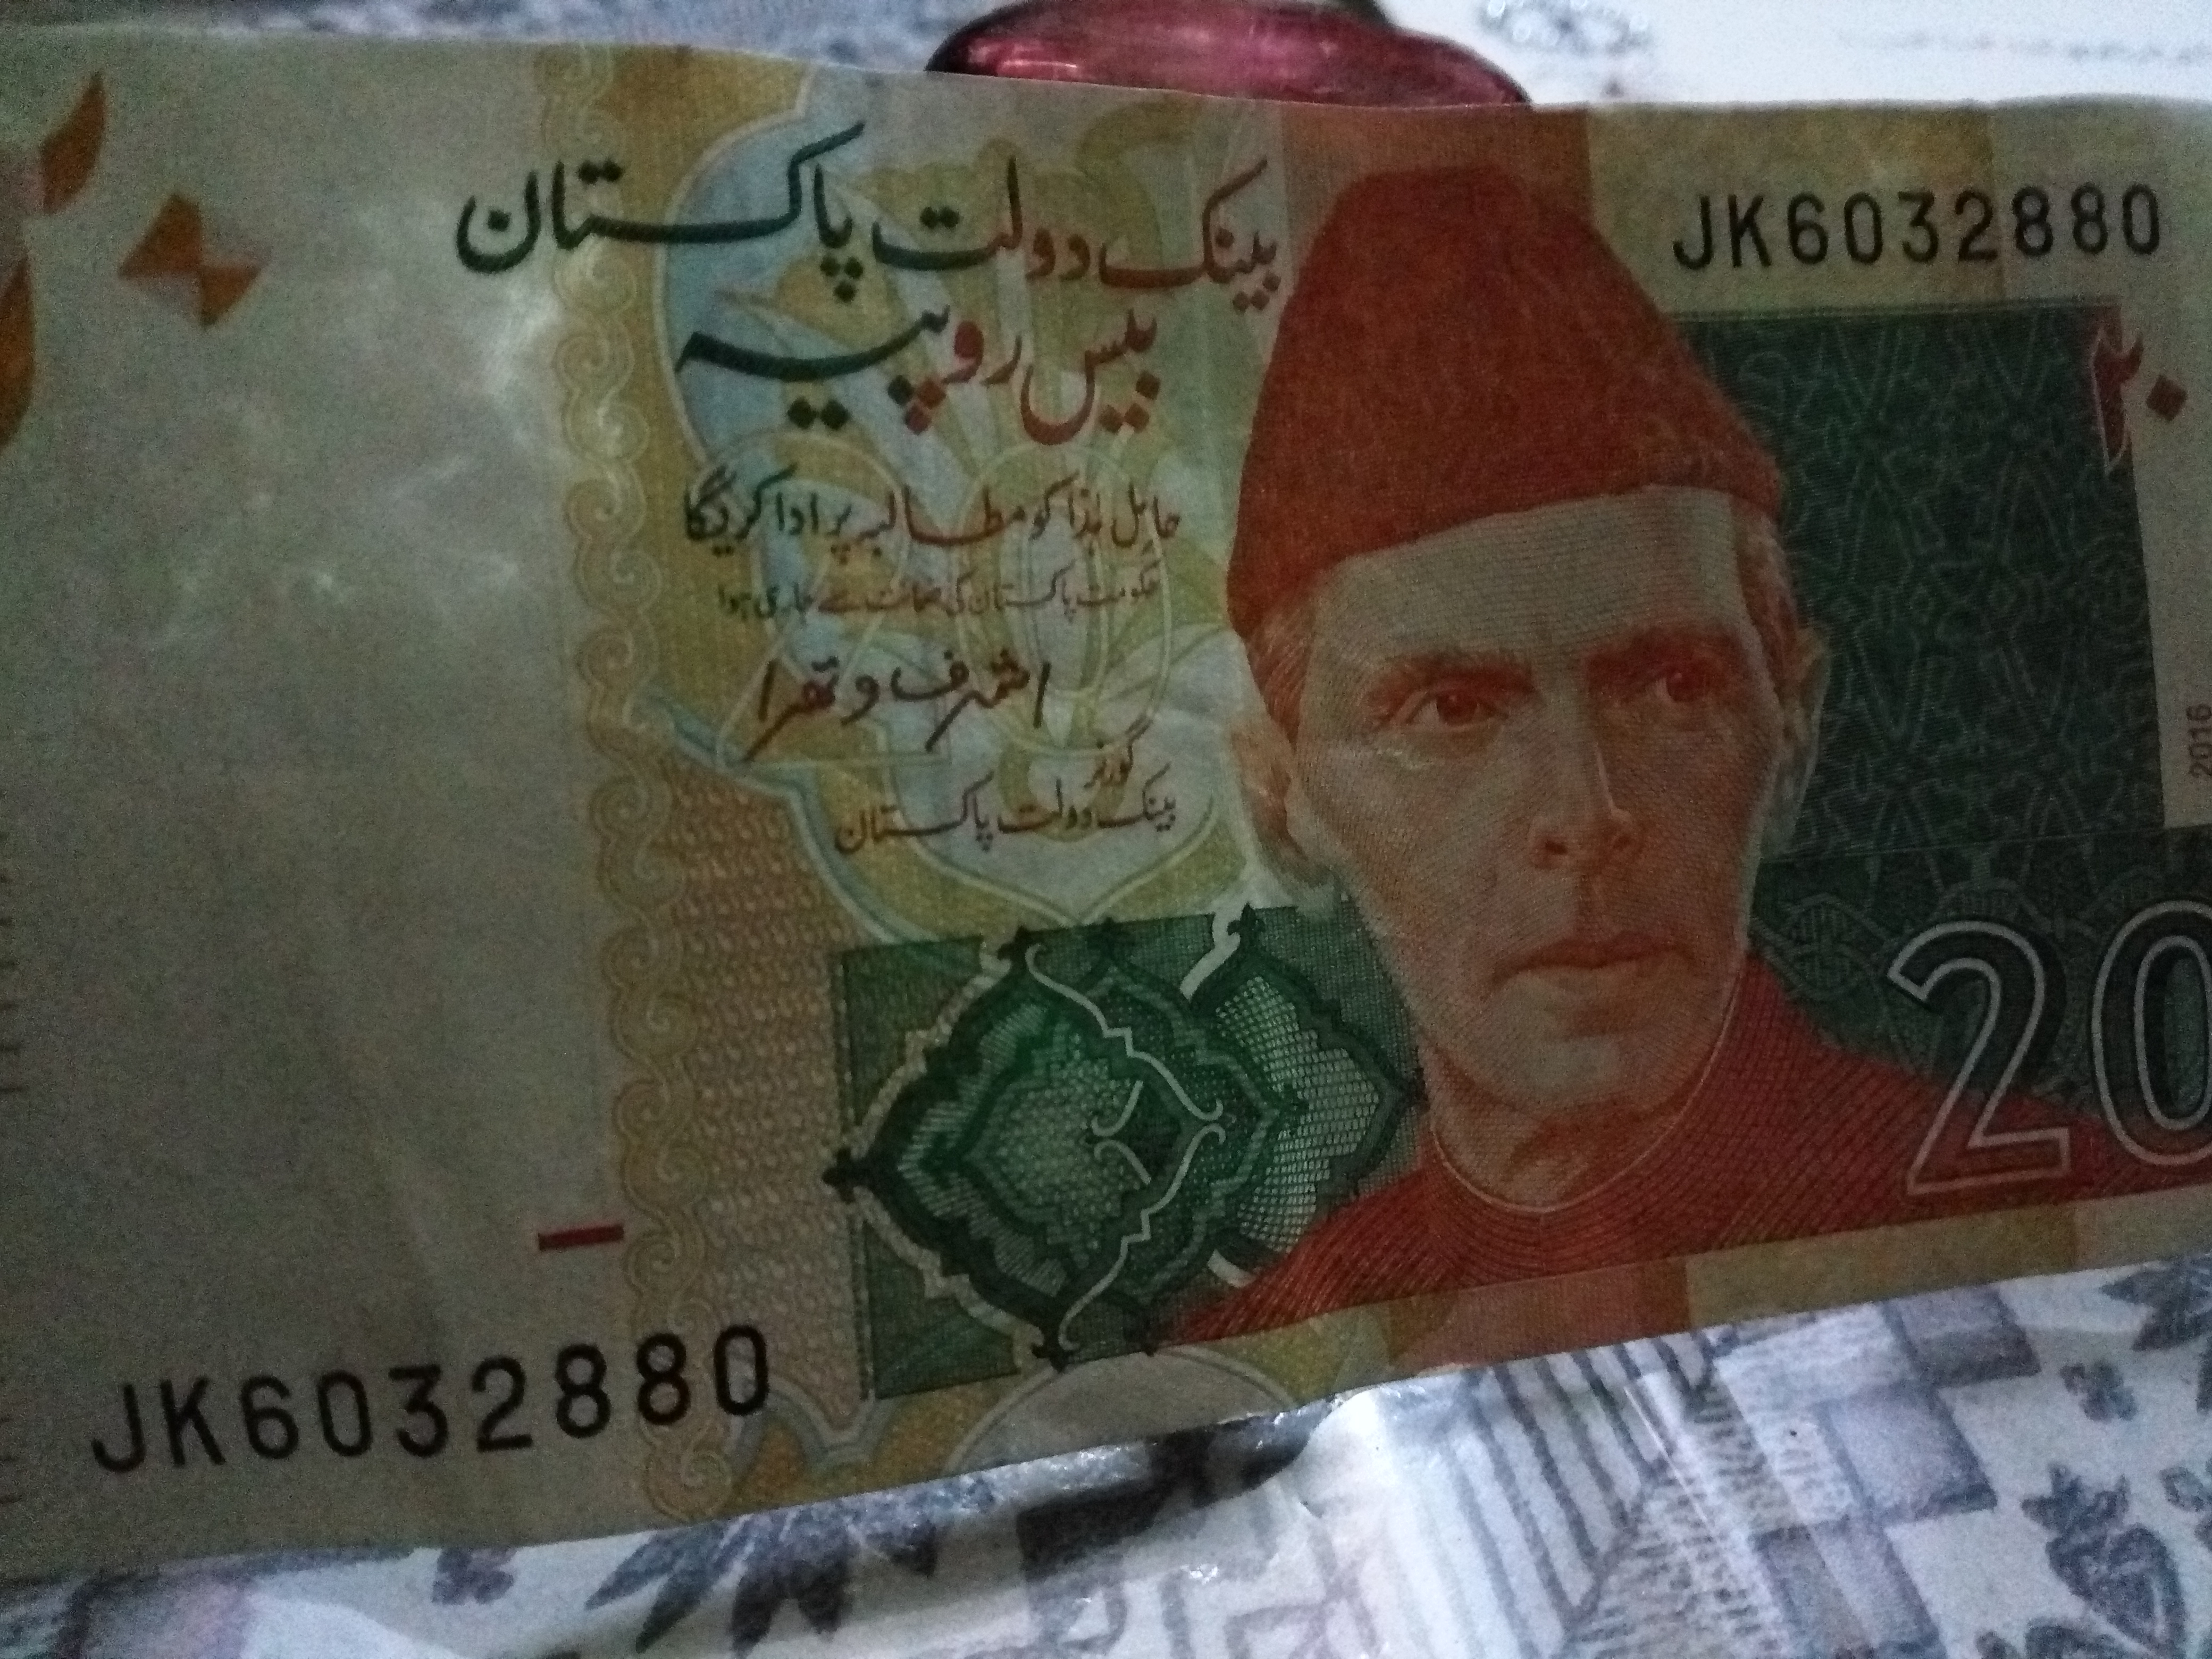20 rupee: (19, 49, 2200, 1556)
